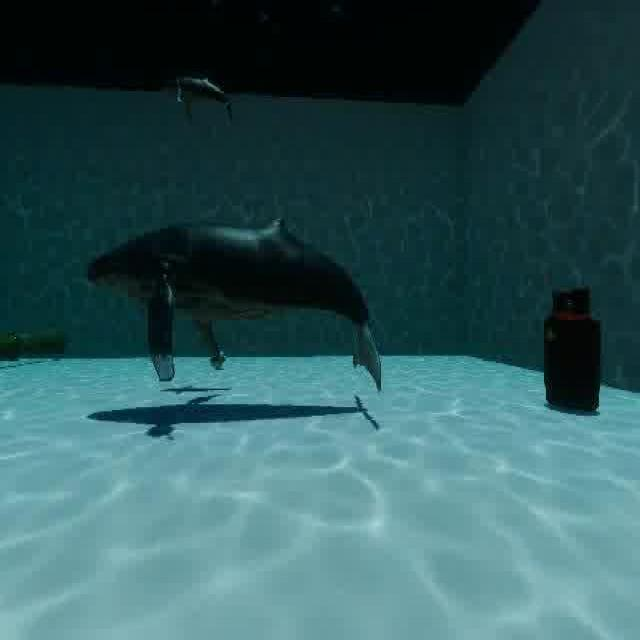Cylinder: (530, 262, 621, 432)
Pipe: (0, 313, 67, 372)
Shell: (208, 337, 230, 374)
Whale: (76, 183, 401, 420), (157, 62, 242, 130)
